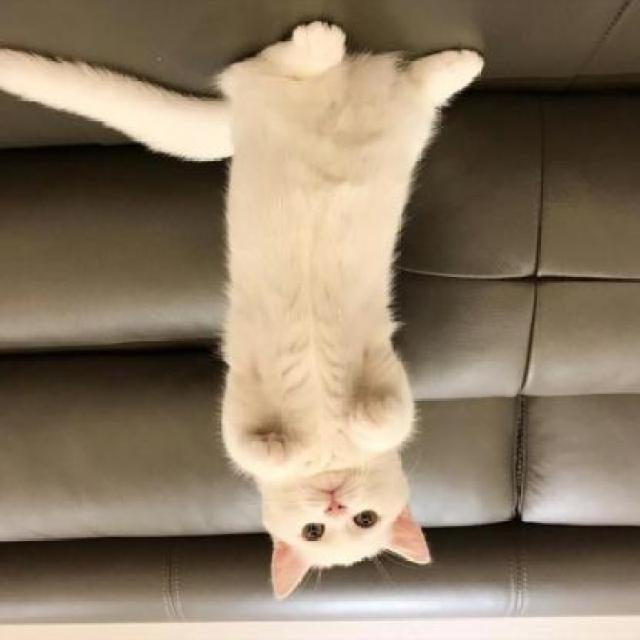cat: (0, 0, 494, 612)
